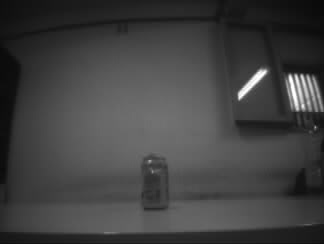Tin can: (140, 153, 170, 211)
